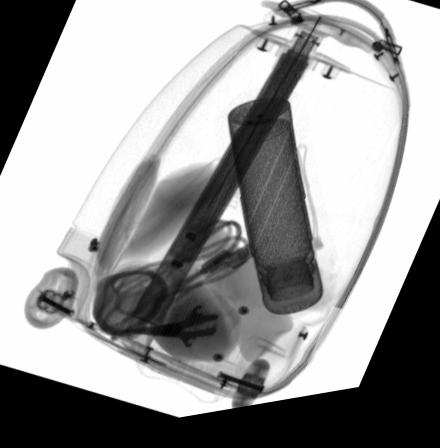Scissors: (113, 299, 241, 370)
